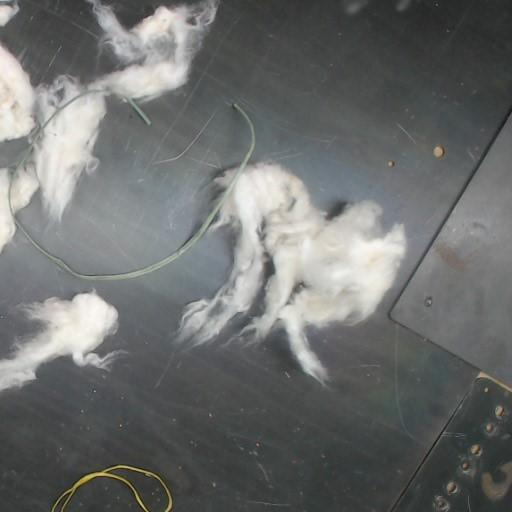conveyor belt: (0, 0, 511, 511), (0, 0, 115, 82), (0, 139, 27, 164)
cotton: (0, 0, 217, 251), (177, 162, 404, 384), (0, 292, 117, 391), (0, 3, 17, 25)
thread: (8, 89, 255, 280), (51, 464, 171, 511), (126, 98, 151, 126)
